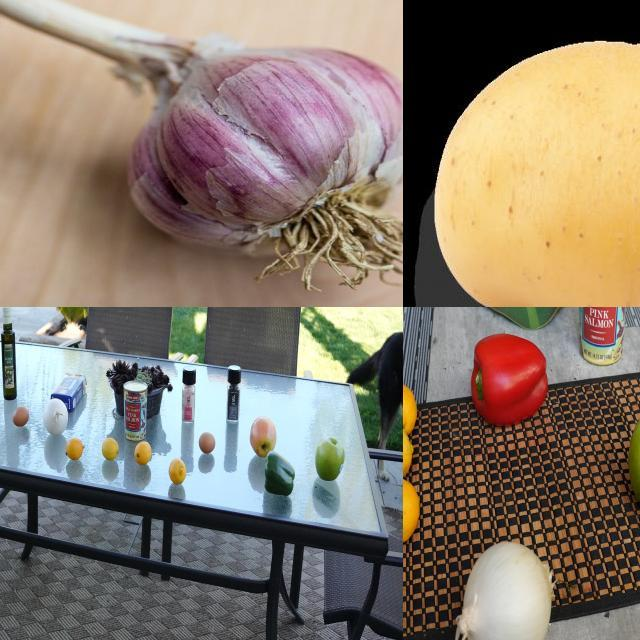bell_pepper: (465, 329, 551, 422), (261, 451, 297, 498), (223, 365, 245, 425), (110, 364, 132, 417)
egg: (200, 433, 220, 460), (13, 406, 33, 433)
garlic: (125, 33, 404, 295)
onion: (456, 534, 557, 640), (40, 400, 70, 440)
potato: (437, 40, 640, 308)
